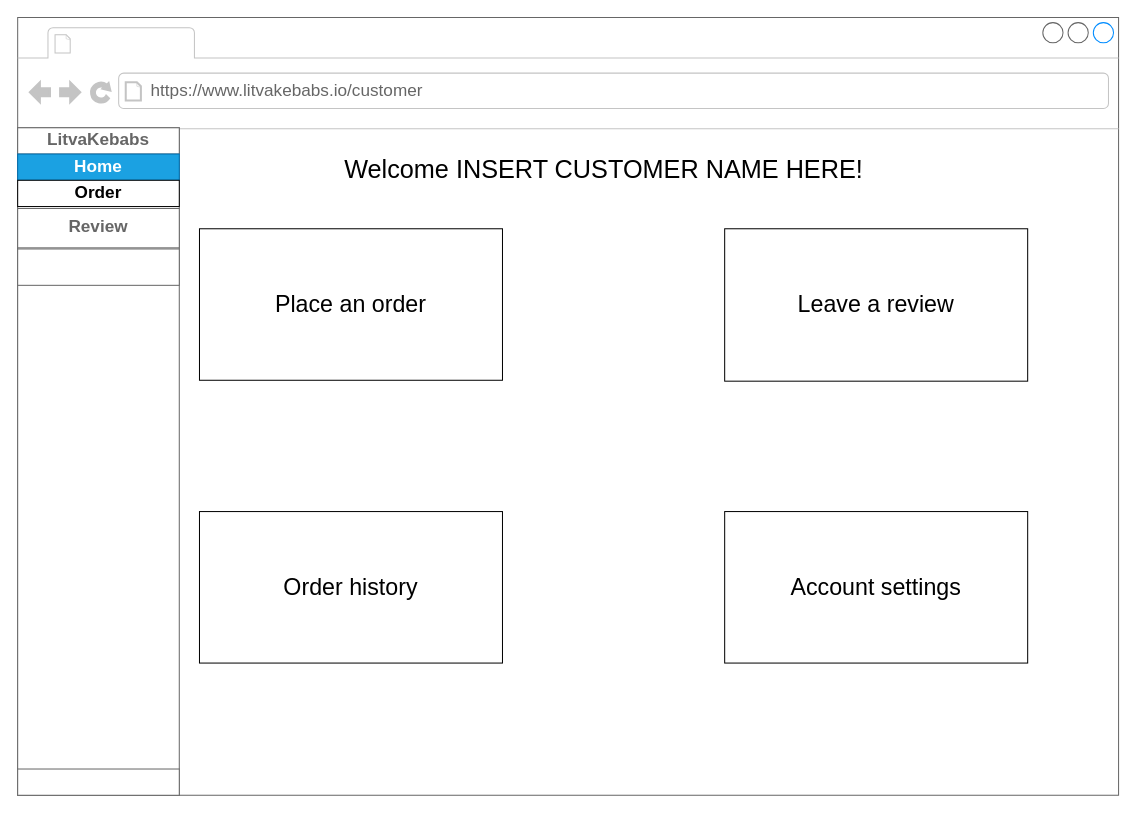
Some shapes in this 1136 by 813 pixel diagram are drawn without their labels. Here are the shapes that lost their labels. From the top down, the centre of each, then its label:
(133,42): Page 1
(98,266): History
(98,781): Settings
